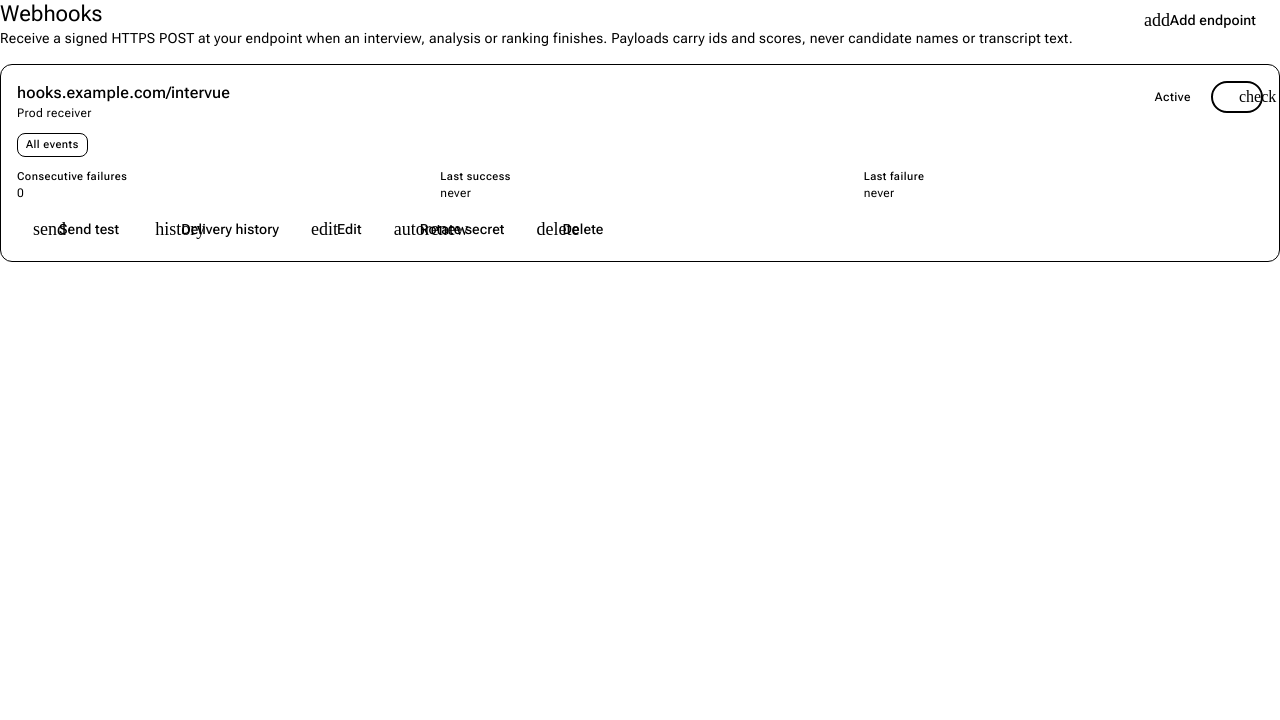
WebhooksSection › lists endpoints and shows the delivery history
Expected: the text "hooks.example.com" is shown, [17, 83, 166, 102]
Click the button "Delivery history" at (215, 229), box [139, 213, 291, 245]
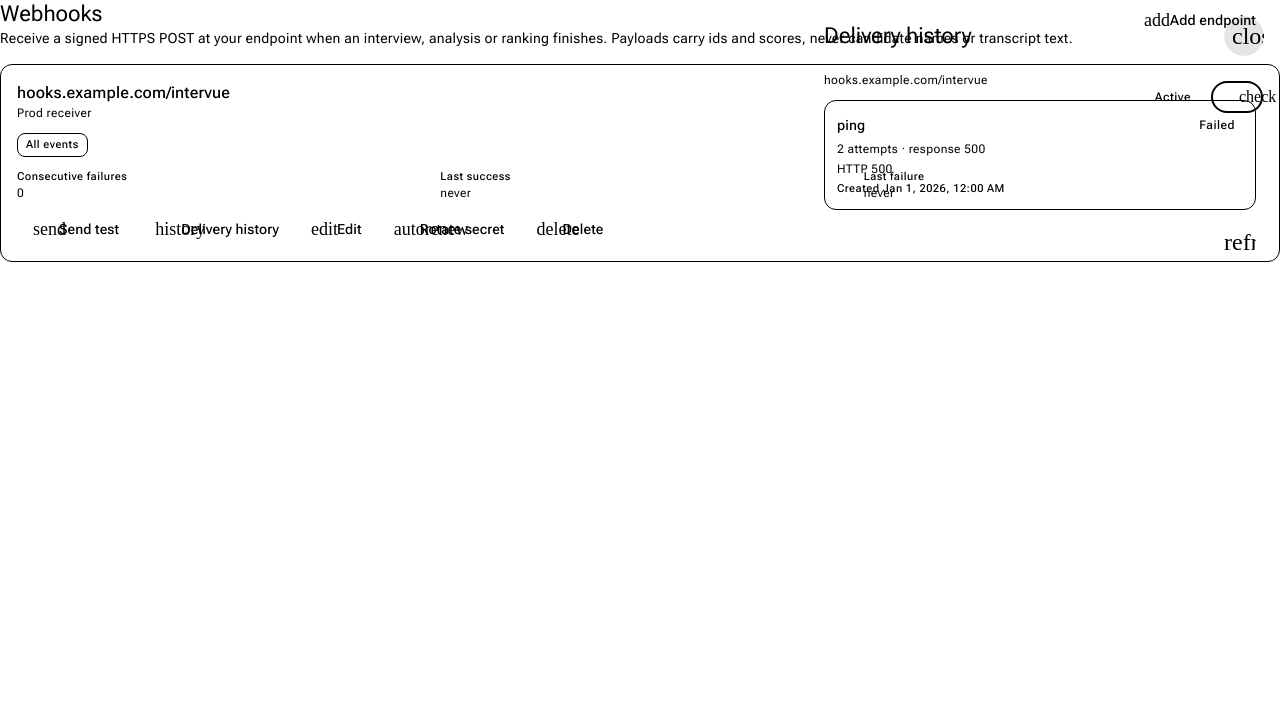
Now the text "Failed" is shown, box [1199, 118, 1235, 132]
Now the text "2 attempts · response 500" is shown, box [837, 142, 986, 156]
Now the text "HTTP 500" is shown, box [837, 162, 893, 176]
